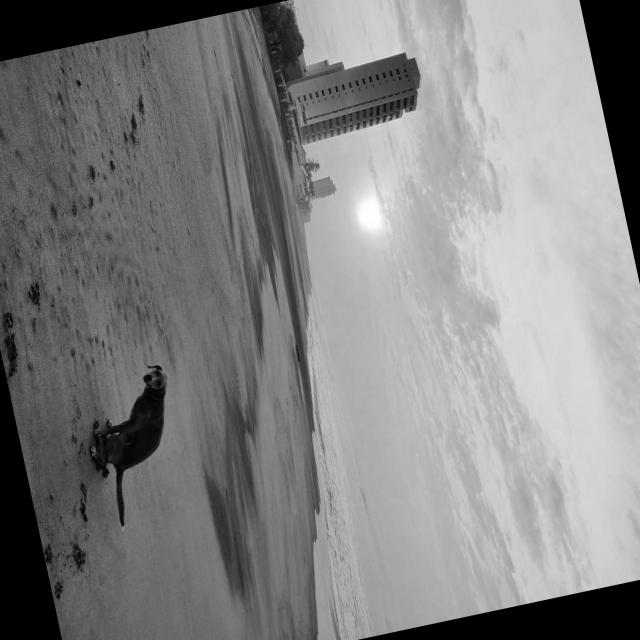squatting: (70, 358, 198, 538)
